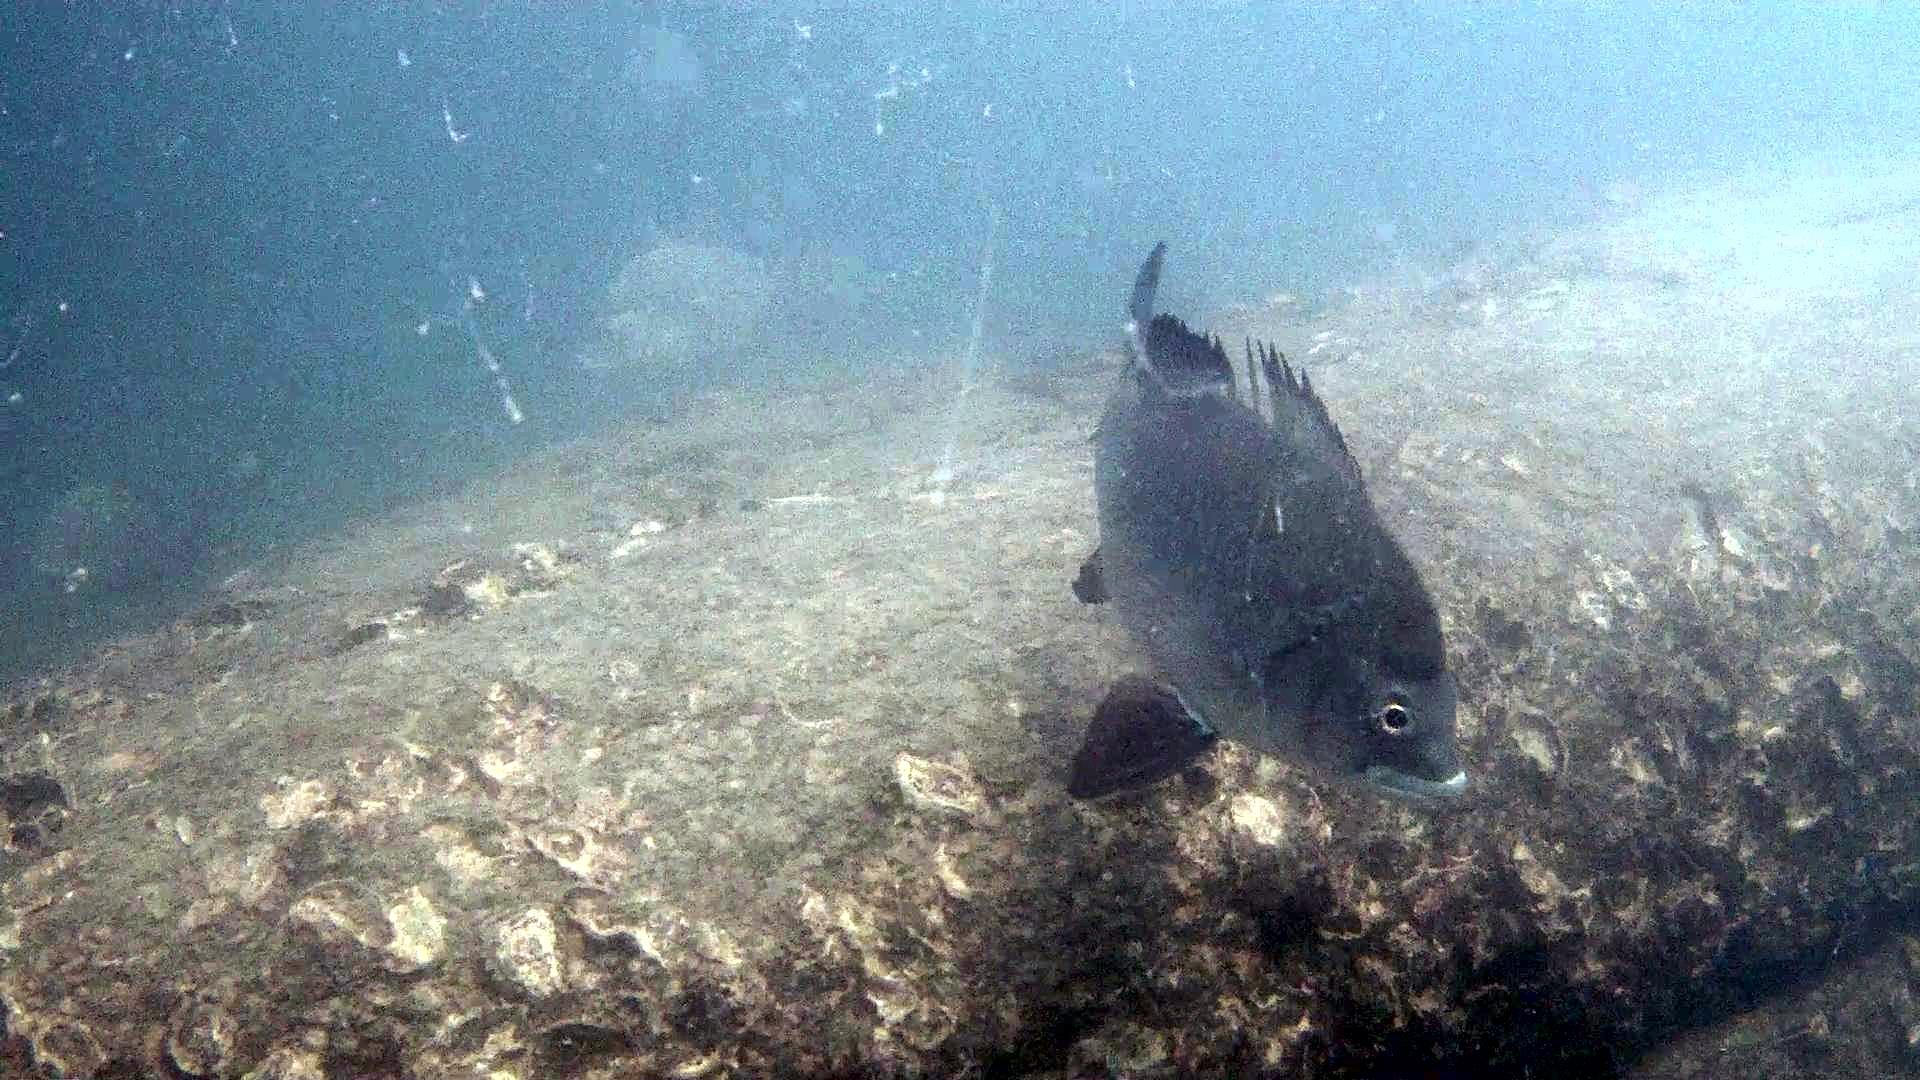acanthopagrus palmaris: (1038, 231, 1494, 827)
